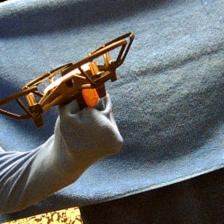drone: (1, 32, 136, 128)
